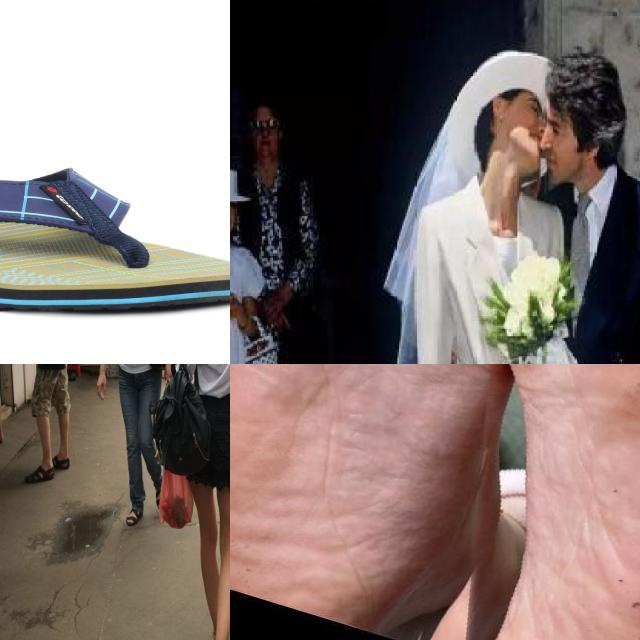Barefoots: (230, 364, 504, 609), (505, 364, 640, 640)
Sandals: (0, 165, 230, 316)
face_nomask: (486, 95, 552, 187), (542, 109, 579, 186), (249, 117, 281, 159), (230, 201, 236, 236)
glasses: (248, 117, 281, 139)
hand_glove: (529, 335, 568, 364)
hand_noglove: (262, 290, 292, 329), (230, 284, 234, 321)
head_nohelmet: (531, 51, 640, 116), (242, 98, 287, 127)
person: (385, 41, 585, 364), (520, 27, 640, 364)
